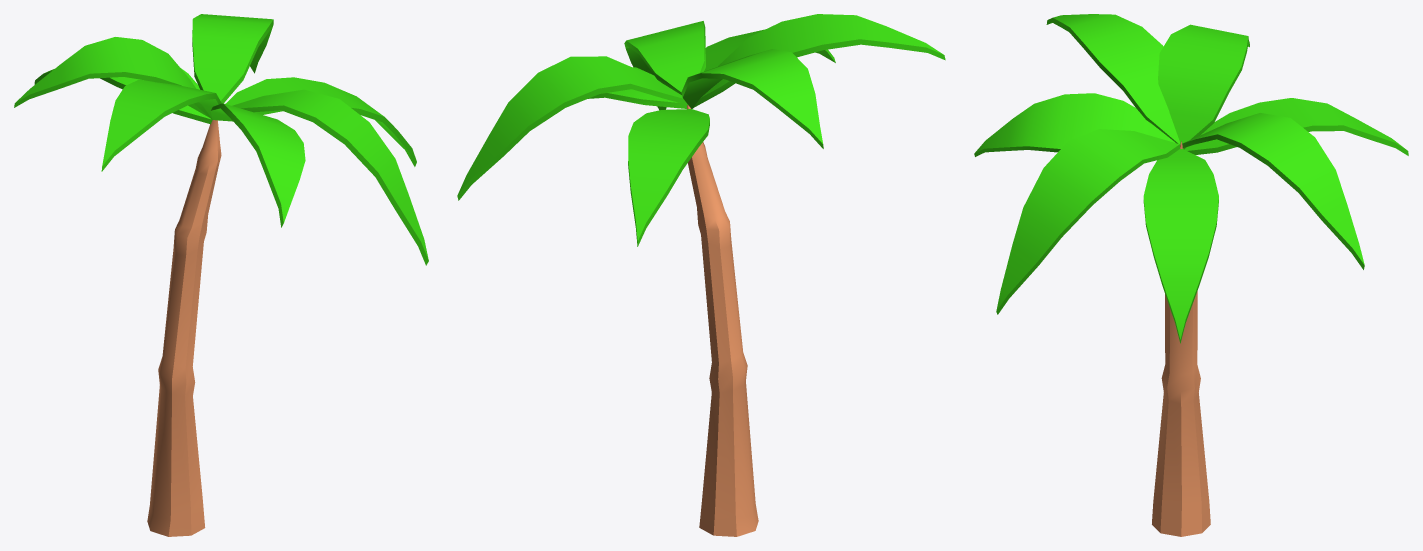
File: Coqueiro 1.fbx
3 renders of one model, left to right at view 1: azimuth 30°, elevation 25°; view 2: azimuth 150°, elevation 25°; view 3: azimuth 270°, elevation 25°, orthographic. The views are drawn at different scales.
Visible parts, largest first — view 1: Coqueiro 1; view 2: Coqueiro 1; view 3: Coqueiro 1.
Boxes of the visible parts, box(x1,y1,x2,y2) form: Coqueiro 1: box(14, 14, 428, 536); Coqueiro 1: box(457, 14, 945, 536); Coqueiro 1: box(974, 14, 1408, 536).
Bounding box in the file's own units: 650 × 765 × 648.
